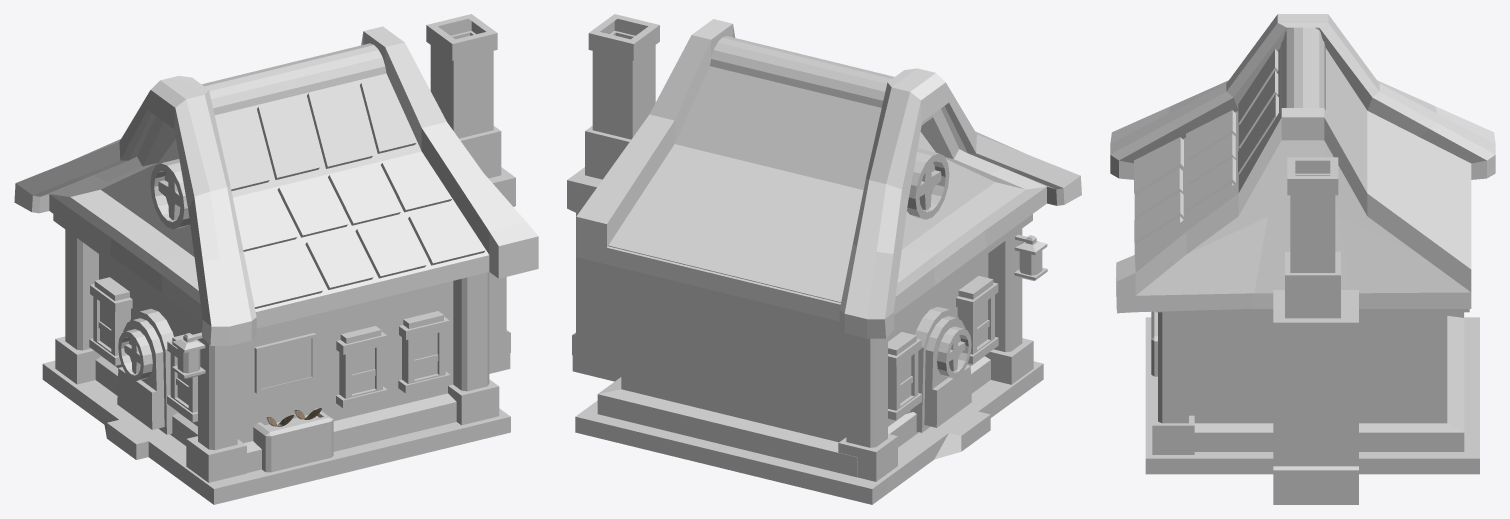
File: house_new2.fbx
The picture shows the model from 3 angles, left to right: view 1: azimuth 30°, elevation 25°; view 2: azimuth 150°, elevation 25°; view 3: azimuth 270°, elevation 25°; orthographic projection. The views are drawn at different scales.
Parts seen in each view (by area): view 1: Cube.006; view 2: Cube.006; view 3: Cube.006.
Boxes of the visible parts, x1,y1,x2,y2 form: Cube.006: [14, 14, 538, 504]; Cube.006: [567, 14, 1081, 504]; Cube.006: [1110, 14, 1495, 504].
Size of the model in its own units: 1990 by 1704 by 1754.
